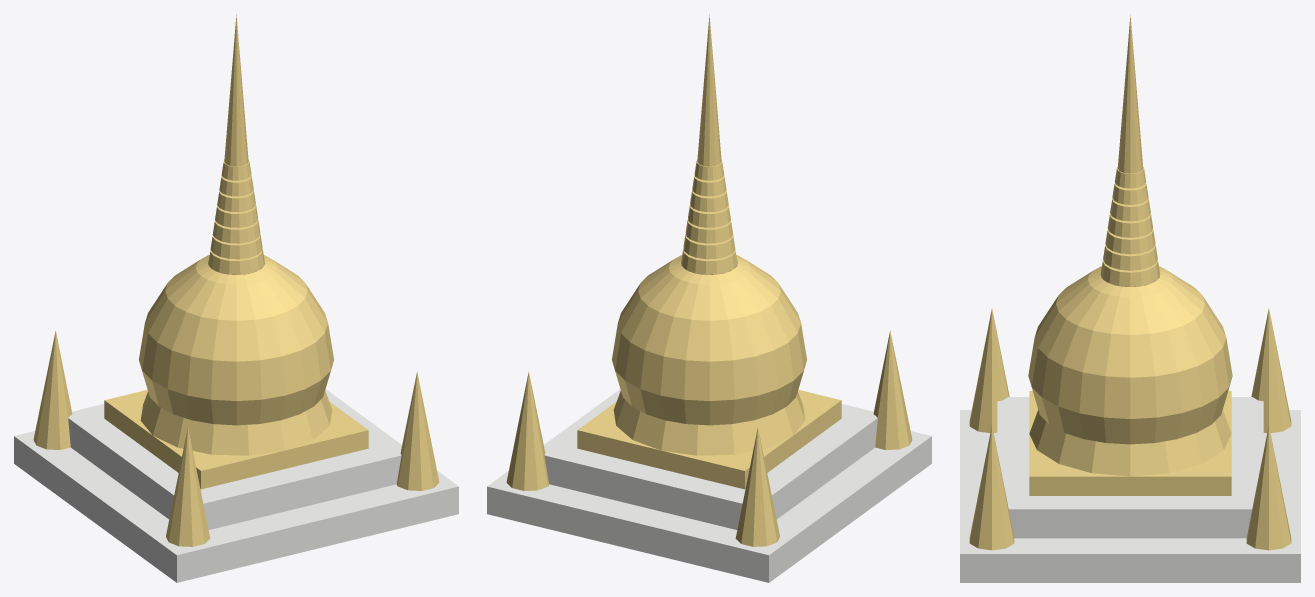
File: LM_ThaiChedi.fbx
3 renders of one model, left to right at view 1: azimuth 30°, elevation 25°; view 2: azimuth 150°, elevation 25°; view 3: azimuth 270°, elevation 25°, orthographic. The views are drawn at different scales.
Visible parts, largest first — view 1: LM_ThaiChedi; view 2: LM_ThaiChedi; view 3: LM_ThaiChedi.
Part boxes in pixels (box(x1,y1,x2,y2)): LM_ThaiChedi: box(14, 14, 458, 582); LM_ThaiChedi: box(487, 14, 931, 582); LM_ThaiChedi: box(960, 14, 1300, 582).
Bounding box in the file's own units: 32 × 51.5 × 32.
